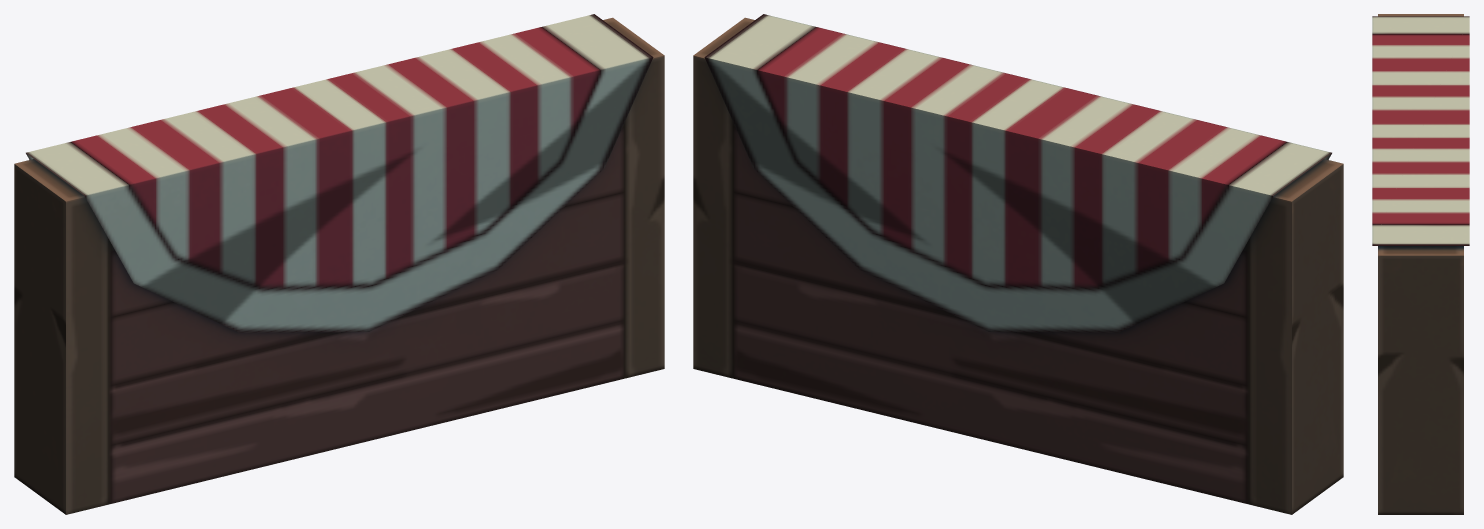
File: arena_5.FBX
3 views of the same model, side by side, from view 1: azimuth 30°, elevation 25°; view 2: azimuth 150°, elevation 25°; view 3: azimuth 270°, elevation 25° (orthographic). The views are drawn at different scales.
Parts seen in each view (by area): view 1: Box004; view 2: Box004; view 3: Box004.
Boxes of the visible parts, x1=… form: Box004: x1=14, y1=14, x2=664, y2=514; Box004: x1=693, y1=14, x2=1343, y2=514; Box004: x1=1372, y1=14, x2=1469, y2=514.
Size of the model in its own units: 280 by 142 by 47.8.
